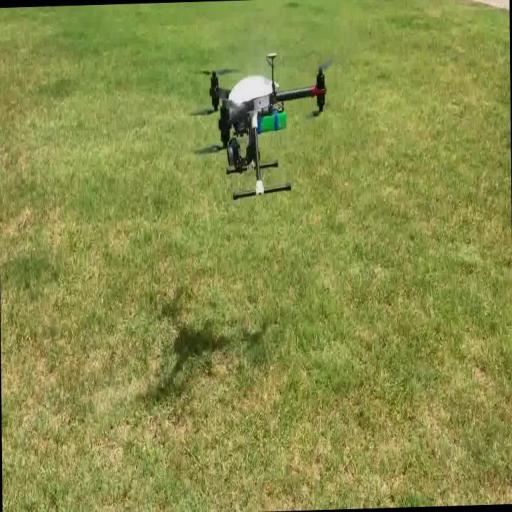drone: (189, 51, 334, 202)
